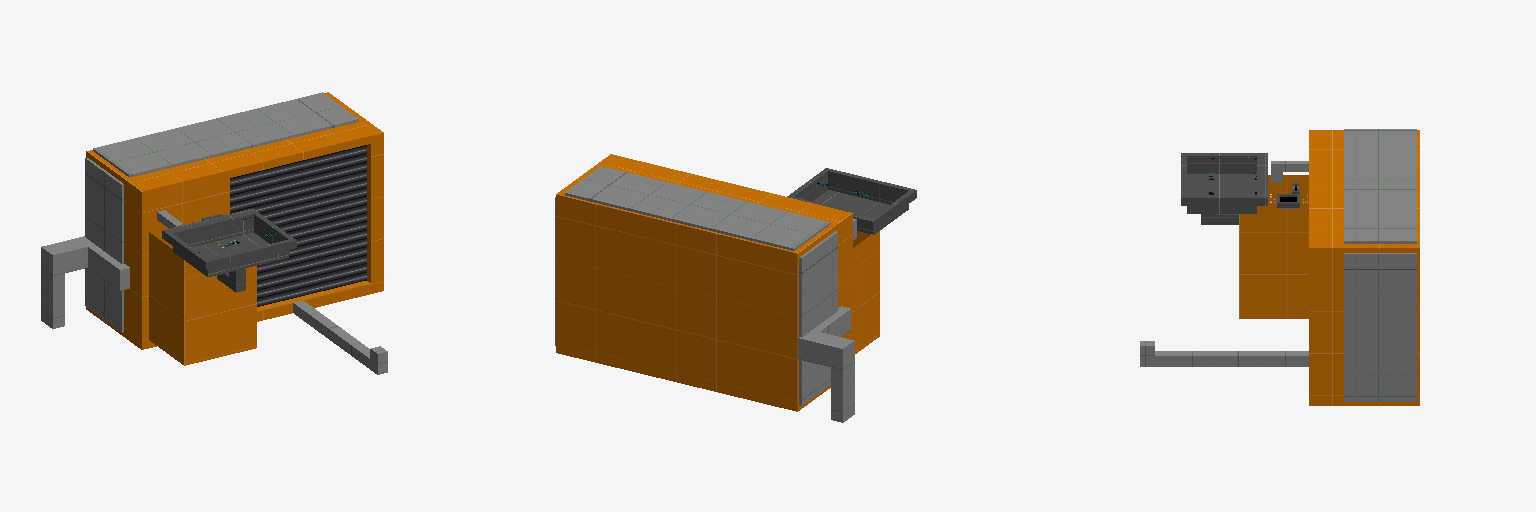
3 renders of one model, left to right at view 1: azimuth 30°, elevation 25°; view 2: azimuth 150°, elevation 25°; view 3: azimuth 270°, elevation 25°, orthographic.
Visible parts, largest first — view 1: 15, 9, 21, 17, 5, 26, 16, 8, 18, 11, 19, 6 (+4 smaller); view 2: 15, 9, 5, 21, 26, 8, 6, 17, 7, 18; view 3: 10, 15, 9, 21, 26, 11, 22, 16, 27, 18, 28.
Boxes of the visible parts, x1,y1,x2,y2 form: 15: [86, 92, 379, 345]; 9: [93, 92, 358, 177]; 21: [157, 236, 256, 365]; 17: [137, 167, 229, 349]; 5: [85, 158, 123, 332]; 26: [173, 217, 288, 276]; 16: [367, 130, 383, 293]; 8: [41, 244, 64, 328]; 18: [226, 133, 370, 177]; 11: [293, 300, 387, 374]; 19: [257, 281, 370, 321]; 6: [77, 236, 129, 290]; 15: [556, 157, 848, 411]; 9: [565, 166, 830, 250]; 5: [799, 231, 837, 405]; 21: [853, 231, 879, 353]; 26: [797, 174, 908, 234]; 8: [831, 338, 854, 422]; 6: [798, 306, 850, 361]; 17: [761, 192, 852, 339]; 7: [808, 332, 841, 366]; 18: [620, 157, 764, 194]; 10: [1344, 253, 1416, 401]; 15: [1318, 130, 1419, 405]; 9: [1344, 129, 1416, 243]; 21: [1239, 175, 1294, 318]; 26: [1187, 158, 1256, 213]; 11: [1140, 351, 1308, 366]; 22: [1297, 175, 1308, 318]; 16: [1309, 242, 1317, 405]; 27: [1187, 195, 1256, 205]; 18: [1309, 173, 1317, 241]; 28: [1257, 153, 1267, 205].
Bounding box in the file's own units: 115 × 61 × 96.
7 materials, 7 textured.